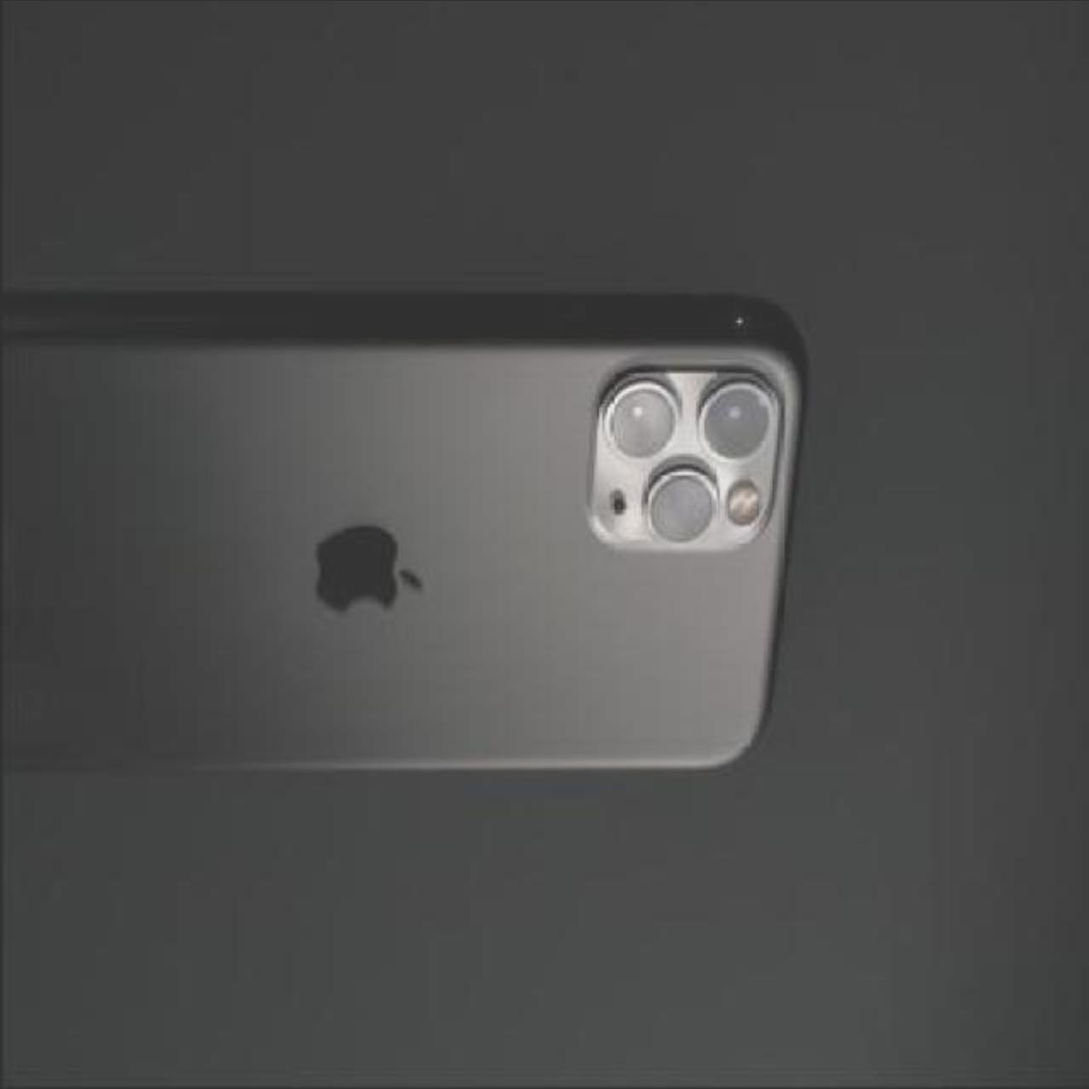phone: (4, 322, 816, 775)
